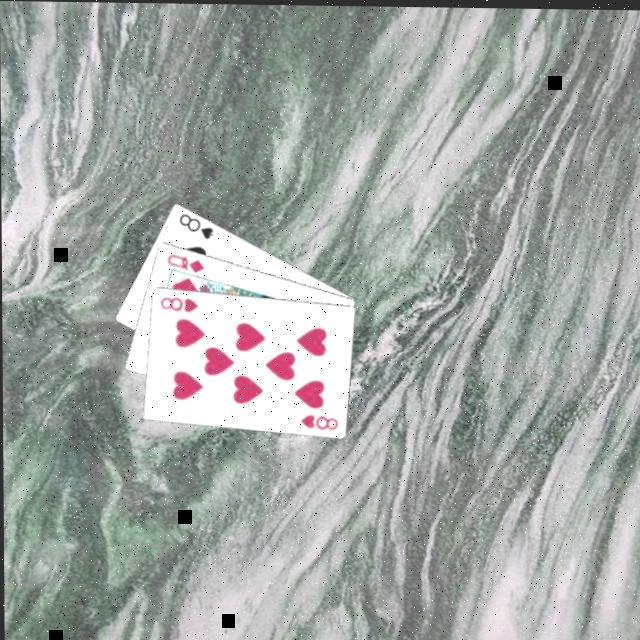8H: (155, 290, 199, 313), (296, 408, 338, 429)
8S: (175, 207, 215, 239)
QD: (162, 248, 205, 273)
